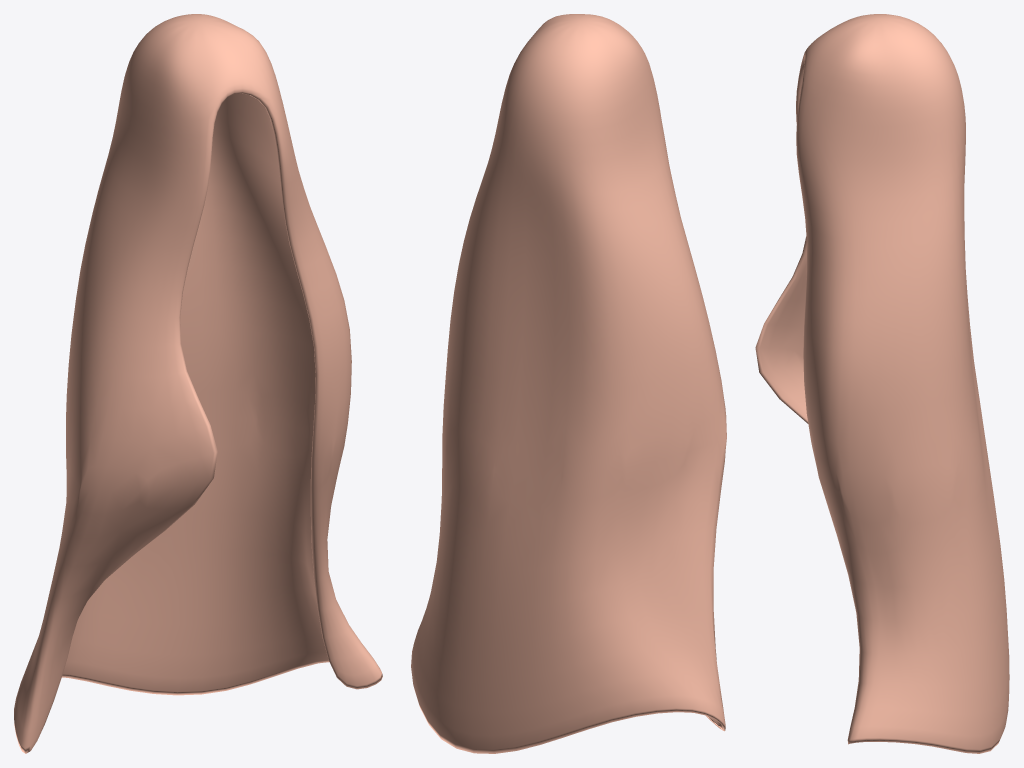
The model's file is hair1.glb.
The picture shows the model from 3 angles, left to right: view 1: azimuth 30°, elevation 25°; view 2: azimuth 150°, elevation 25°; view 3: azimuth 270°, elevation 25°; orthographic projection. The views are drawn at different scales.
Visible parts, largest first — view 1: Hair; view 2: Hair; view 3: Hair.
Part boxes in pixels (bbox=[...]): Hair: bbox=[14, 14, 382, 753]; Hair: bbox=[411, 14, 726, 753]; Hair: bbox=[755, 14, 1009, 753].
Bounding box in the file's own units: 1.15 × 2.4 × 0.7975.
